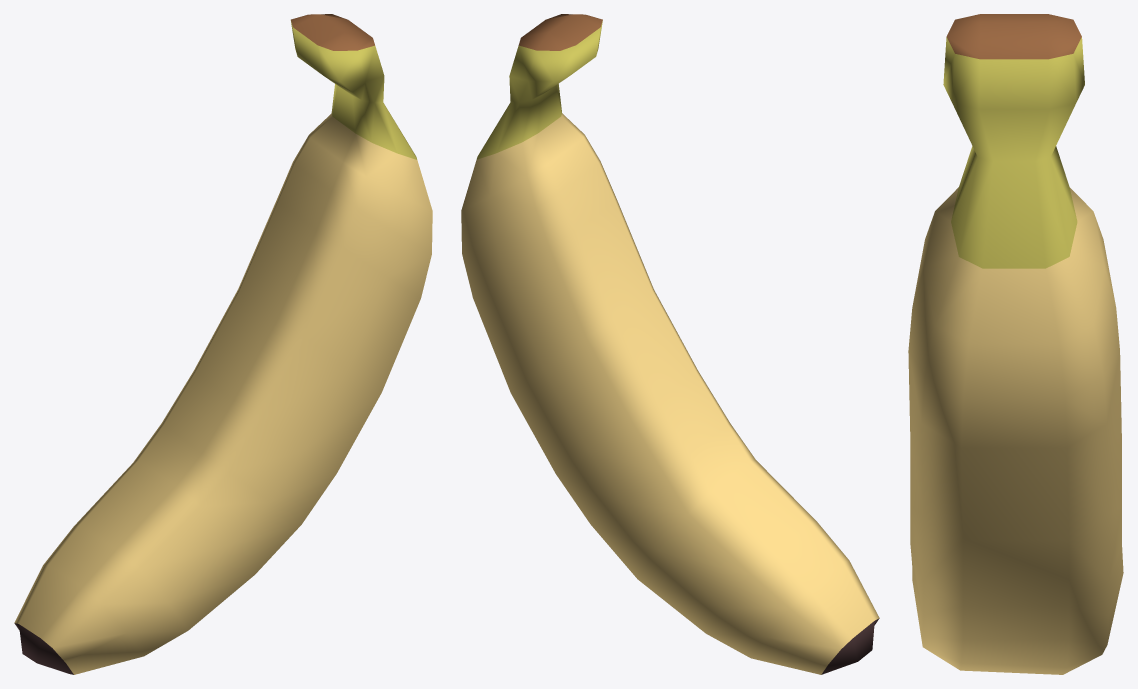
Rendered from Banana_Merc.fbx.
3 renders of one model, left to right at view 1: azimuth 30°, elevation 25°; view 2: azimuth 150°, elevation 25°; view 3: azimuth 270°, elevation 25°, orthographic. The views are drawn at different scales.
Visible parts, largest first — view 1: pCube1; view 2: pCube1; view 3: pCube1.
Boxes of the visible parts, x1,y1,x2,y2 form: pCube1: (14, 14, 432, 674); pCube1: (461, 14, 879, 674); pCube1: (908, 14, 1123, 674).
Bounding box in the file's own units: 0.3471 × 0.4953 × 0.1217.
1 material, 1 textured.
